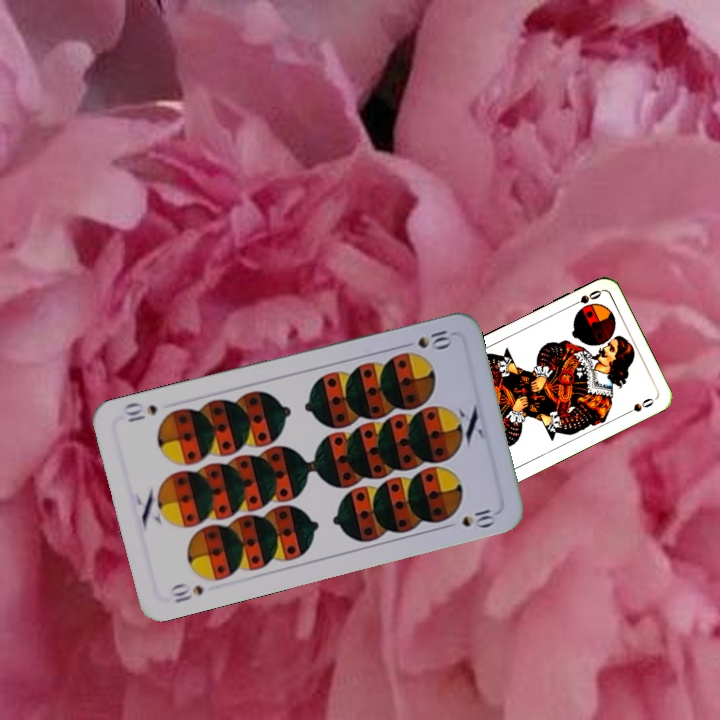S10: (413, 326, 456, 351), (167, 579, 206, 606)
SO: (566, 286, 604, 311)
